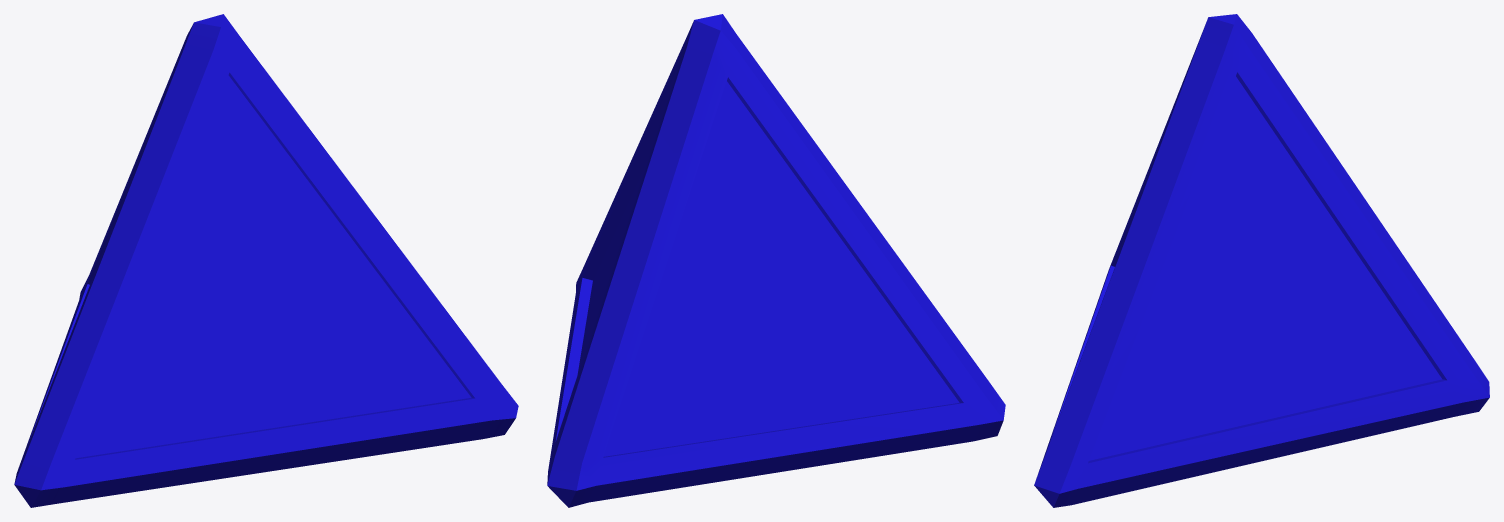
3 views of the same model, side by side, from view 1: azimuth 30°, elevation 25°; view 2: azimuth 150°, elevation 25°; view 3: azimuth 270°, elevation 25° (orthographic). The views are drawn at different scales.
Parts seen in each view (by area): view 1: Barril.003; view 2: Barril.003; view 3: Barril.003.
Part boxes in pixels (left/top/right/bottom): Barril.003: left=14, top=14, right=518, bottom=507; Barril.003: left=547, top=14, right=1005, bottom=507; Barril.003: left=1034, top=14, right=1489, bottom=507.
Size of the model in its own units: 0.2499 by 0.2059 by 0.2162.
